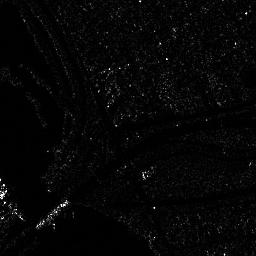ship: (35, 199, 69, 228)
